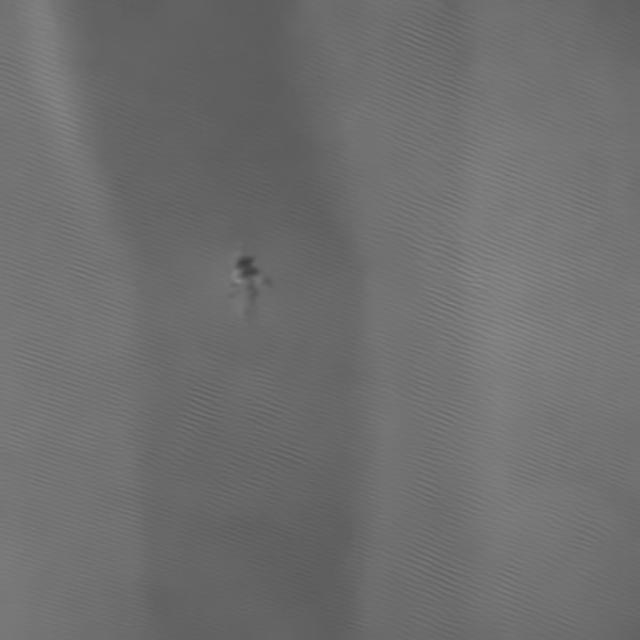other: (191, 221, 297, 319)
